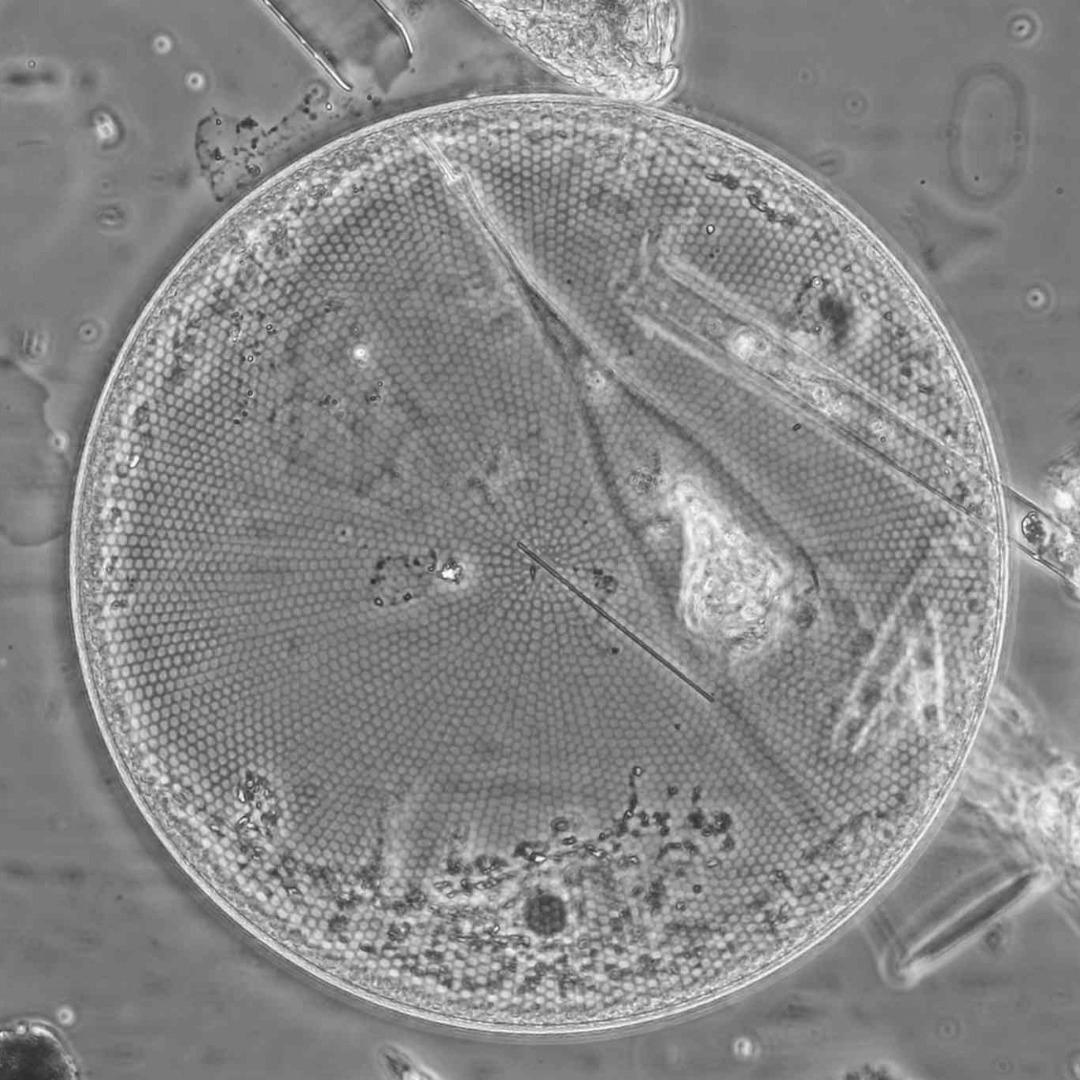coscinodiscus_oculus_iridis: (65, 94, 1006, 1037)
